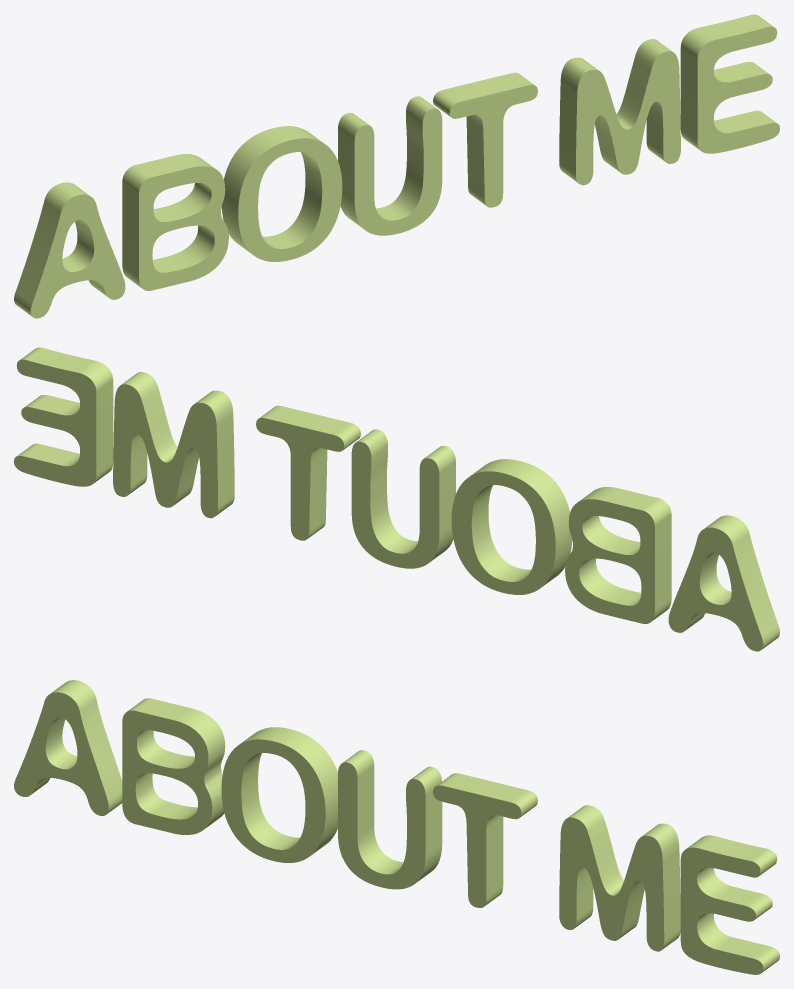
File: aboutme.glb
3 views of the same model, one above another, from view 1: azimuth 30°, elevation 25°; view 2: azimuth 150°, elevation 25°; view 3: azimuth 330°, elevation 25° (orthographic).
Visible parts, largest first — view 1: Text; view 2: Text; view 3: Text.
Part boxes in pixels (<box>): Text: <box>14,14,779,318</box>; Text: <box>14,347,779,651</box>; Text: <box>14,680,779,974</box>.
Size of the model in its own units: 5.18 by 0.7908 by 0.2.
